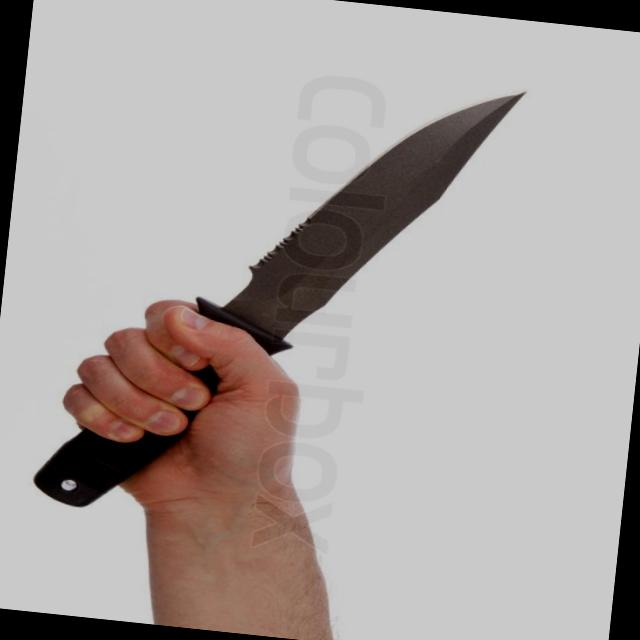knife: (87, 36, 550, 468)
